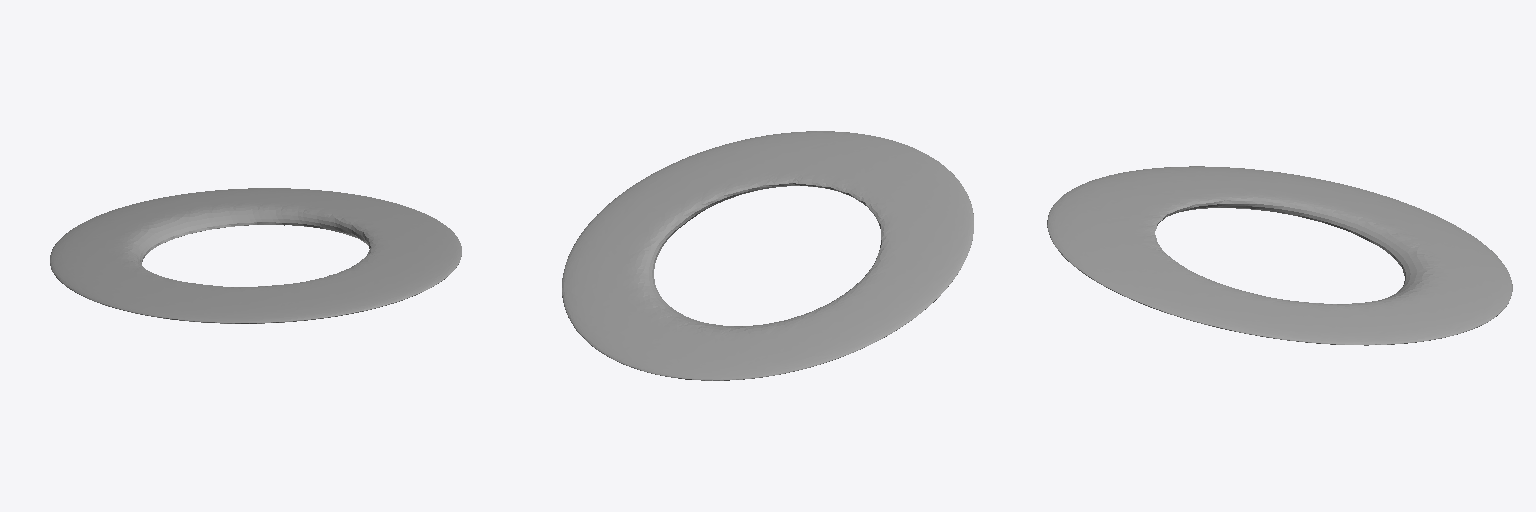
File: ring.obj
The picture shows the model from 3 angles: view 1: azimuth 30°, elevation 25°; view 2: azimuth 150°, elevation 25°; view 3: azimuth 270°, elevation 25°; orthographic projection.
Visible parts, largest first — view 1: Sphere.001; view 2: Sphere.001; view 3: Sphere.001.
Part boxes in pixels (x1,y1,x2,y2): Sphere.001: (50,188,461,323); Sphere.001: (562,131,973,380); Sphere.001: (1047,166,1512,345).
Size of the model in its own units: 2.66 by 0.4972 by 3.14.